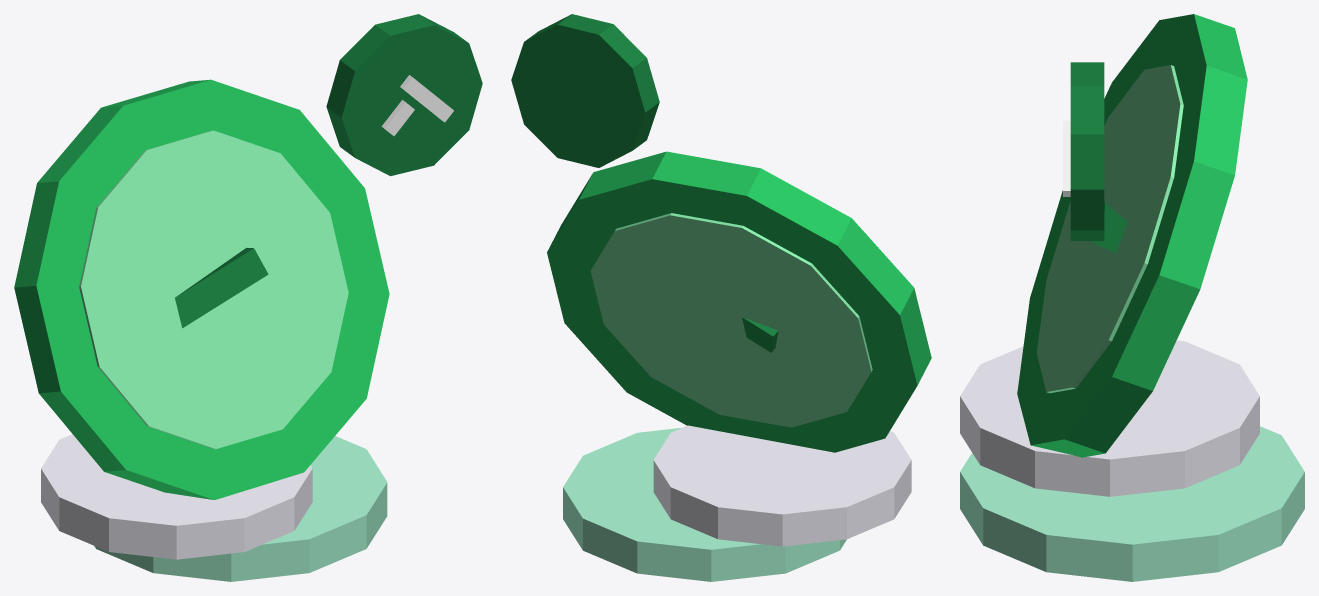
File: payment.glb
3 views of the same model, side by side, from view 1: azimuth 30°, elevation 25°; view 2: azimuth 150°, elevation 25°; view 3: azimuth 270°, elevation 25° (orthographic). The views are drawn at different scales.
Visible parts, largest first — view 1: payment; view 2: payment; view 3: payment.
Boxes of the visible parts, x1,y1,x2,y2 form: payment: [14, 14, 482, 581]; payment: [511, 14, 931, 581]; payment: [960, 14, 1304, 581].
Size of the model in its own units: 1.47 by 1.52 by 0.92.
